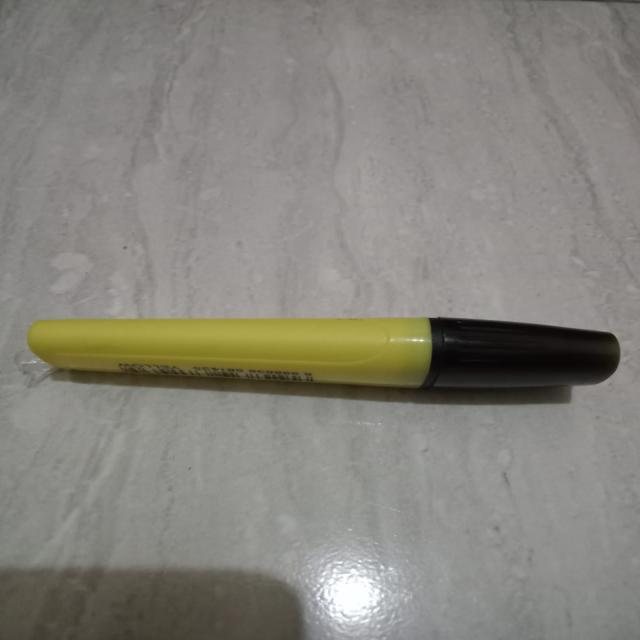highlighter: (3, 292, 637, 414)
